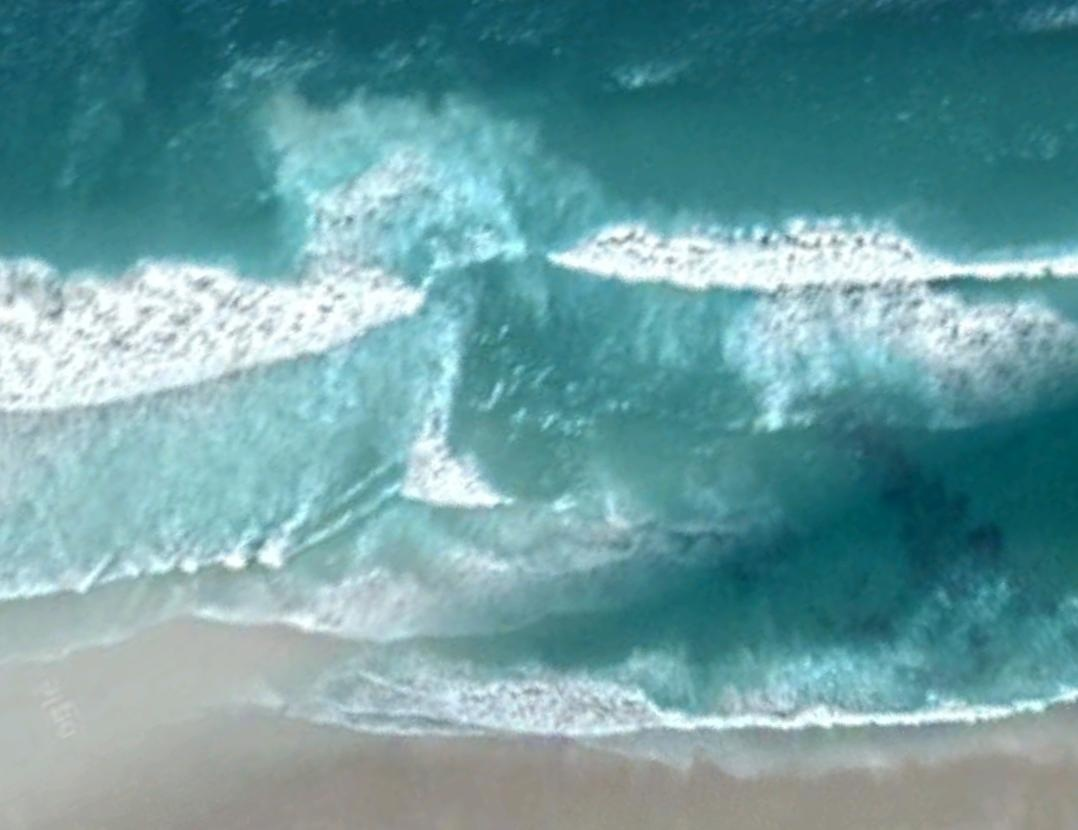rip_current: (267, 80, 728, 557)
